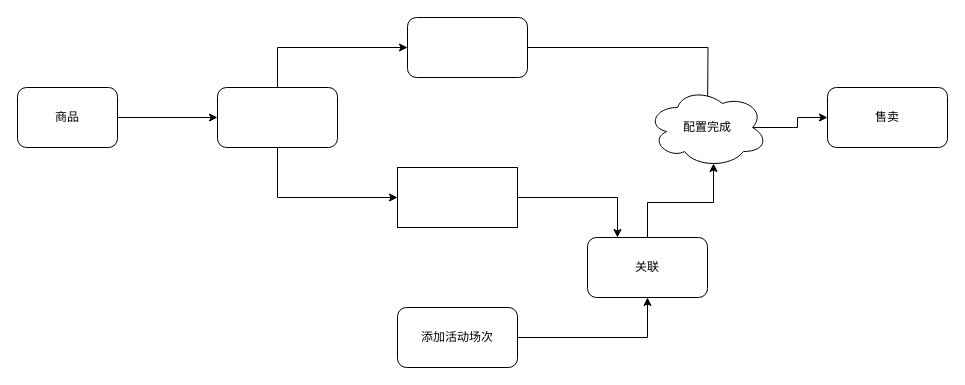
Some shapes in this 965 by 385 pixel diagram are drawn without their labels. The shapes that lost their labels are listed below. From the top down, each one's centre as x and y in pixels, then its label:
At point (467, 47): "加入卖场".
At point (277, 117): "排期".
At point (457, 197): "添加活动商品".
